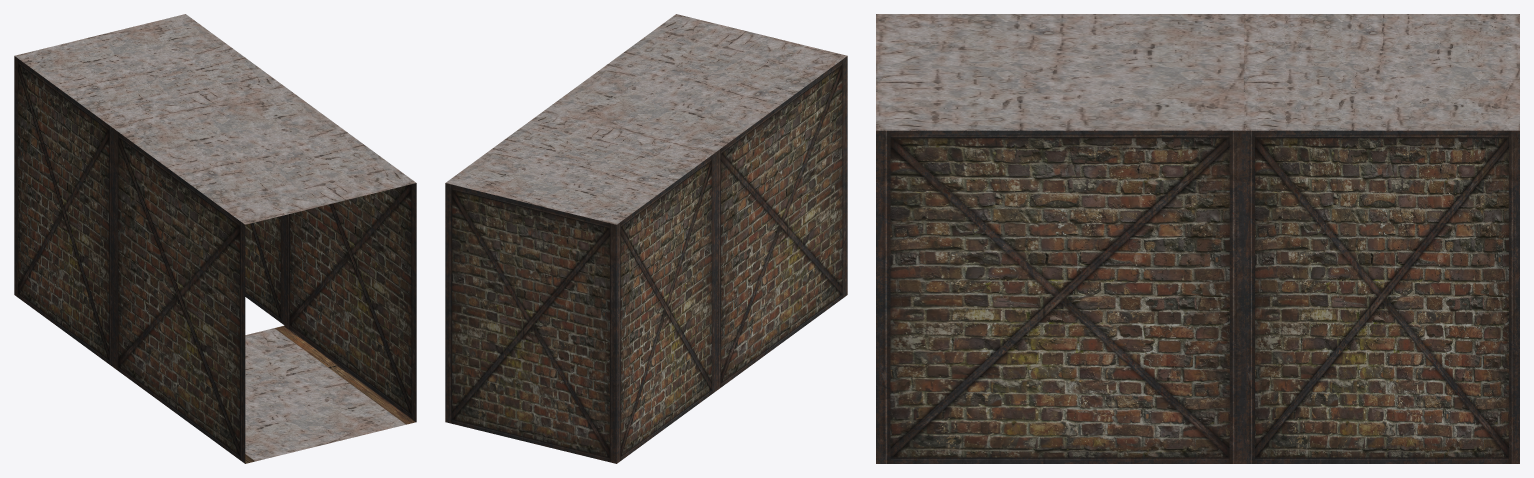
File: Maintaince_turning_vertical_down.FBX
The picture shows the model from 3 angles, left to right: view 1: azimuth 30°, elevation 25°; view 2: azimuth 150°, elevation 25°; view 3: azimuth 270°, elevation 25°; orthographic projection. The views are drawn at different scales.
Visible parts, largest first — view 1: Maintaince_turning_vertical_down; view 2: Maintaince_turning_vertical_down; view 3: Maintaince_turning_vertical_down.
Boxes of the visible parts, box(x1,y1,x2,y2) form: Maintaince_turning_vertical_down: box(14, 14, 416, 463); Maintaince_turning_vertical_down: box(445, 14, 847, 463); Maintaince_turning_vertical_down: box(876, 14, 1519, 463).
Size of the model in its own units: 30 by 70 by 40.
